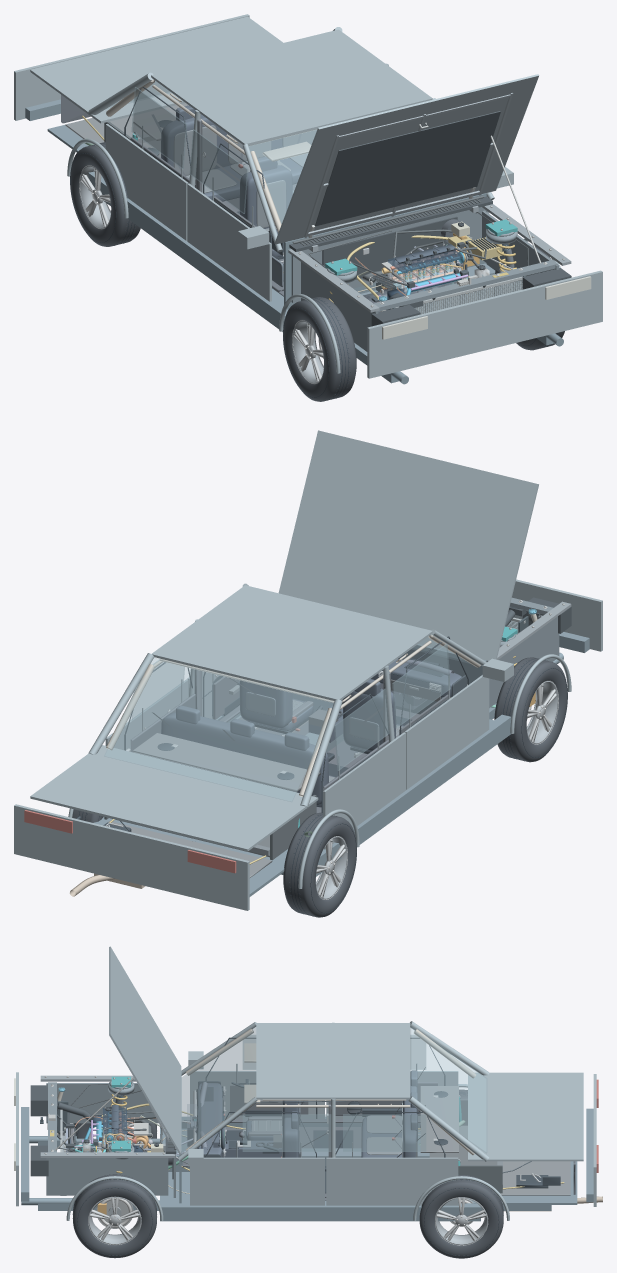
The model's file is cruze-full-r9.glb.
The picture shows the model from 3 angles, top to bottom: view 1: azimuth 30°, elevation 25°; view 2: azimuth 150°, elevation 25°; view 3: azimuth 270°, elevation 25°; orthographic projection. The views are drawn at different scales.
Parts seen in each view (by area): view 1: roof, bay_hood_pad, front_fascia, hood, trunk_lid, front_door_L, rear_door_L, tire_FL, sill_L, tire_RL, windshield, bay_firewall_insulation (+42 smaller); view 2: hood, rear_glass, roof, trunk_lid, rear_fascia, front_door_L, tire_RL, rear_door_L, tire_FL, r7_parcel_shelf, rear_seat_back, sill_L (+24 smaller); view 3: roof, trunk_lid, hood, front_door_R, rear_door_R, rear_glass, windshield, sill_R, tire_FR, bay_apron_R, sideglass_front_R, tire_RR (+45 smaller).
Part boxes in pixels (left/top/right/bottom): roof: left=151, top=29, right=432, bottom=145; bay_hood_pad: left=315, top=111, right=500, bottom=226; front_fascia: left=367, top=270, right=602, bottom=378; hood: left=275, top=74, right=538, bottom=244; trunk_lid: left=30, top=16, right=283, bottom=123; front_door_L: left=187, top=183, right=271, bottom=301; rear_door_L: left=105, top=123, right=188, bottom=240; tire_FL: left=283, top=297, right=356, bottom=401; sill_L: left=88, top=171, right=287, bottom=331; tire_RL: left=70, top=142, right=140, bottom=246; windshield: left=249, top=129, right=317, bottom=223; bay_firewall_insulation: left=322, top=216, right=457, bottom=279; hood: left=278, top=430, right=538, bottom=660; rear_glass: left=104, top=657, right=333, bottom=801; roof: left=152, top=585, right=432, bottom=700; trunk_lid: left=30, top=745, right=318, bottom=851; rear_fascia: left=14, top=804, right=249, bottom=910; front_door_L: left=405, top=675, right=489, bottom=789; tire_RL: left=283, top=812, right=356, bottom=917; rear_door_L: left=323, top=732, right=406, bottom=849; tire_FL: left=494, top=657, right=567, bottom=762; r7_parcel_shelf: left=133, top=733, right=320, bottom=791; rear_seat_back: left=161, top=712, right=328, bottom=805; sill_L: left=316, top=714, right=511, bottom=876; roof: left=256, top=1023, right=410, bottom=1099; trunk_lid: left=468, top=1072, right=583, bottom=1161; hood: left=109, top=946, right=181, bottom=1154; front_door_R: left=190, top=1157, right=324, bottom=1205; rear_door_R: left=326, top=1157, right=458, bottom=1205; rear_glass: left=410, top=1026, right=486, bottom=1153; windshield: left=182, top=1026, right=255, bottom=1152; sill_R: left=160, top=1203, right=480, bottom=1221; tire_FR: left=73, top=1174, right=156, bottom=1258; bay_apron_R: left=46, top=1158, right=168, bottom=1195; sideglass_front_R: left=242, top=1114, right=331, bottom=1151; tire_RR: left=419, top=1175, right=503, bottom=1258.
Bounding box in the file's own units: 1.95 × 1.9 × 4.56.
